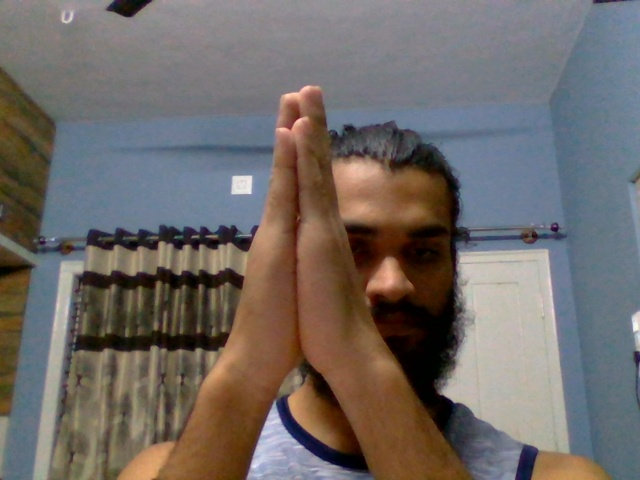ThankYou: (229, 83, 385, 367)
